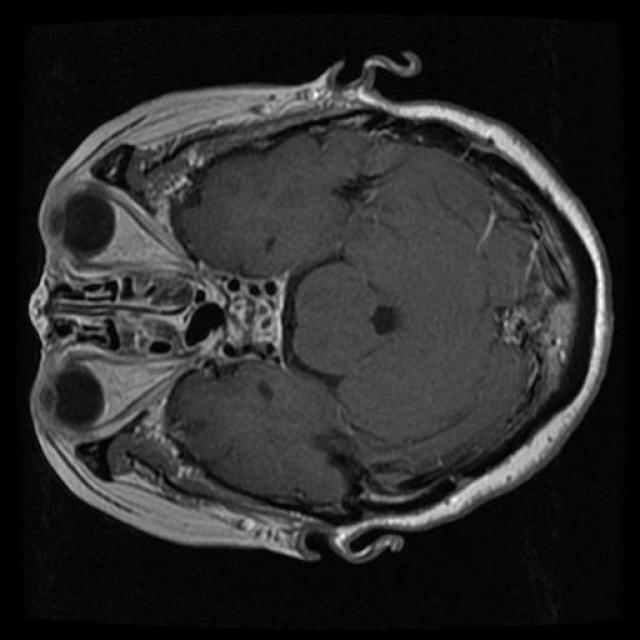Pituitary: (221, 273, 287, 366)
